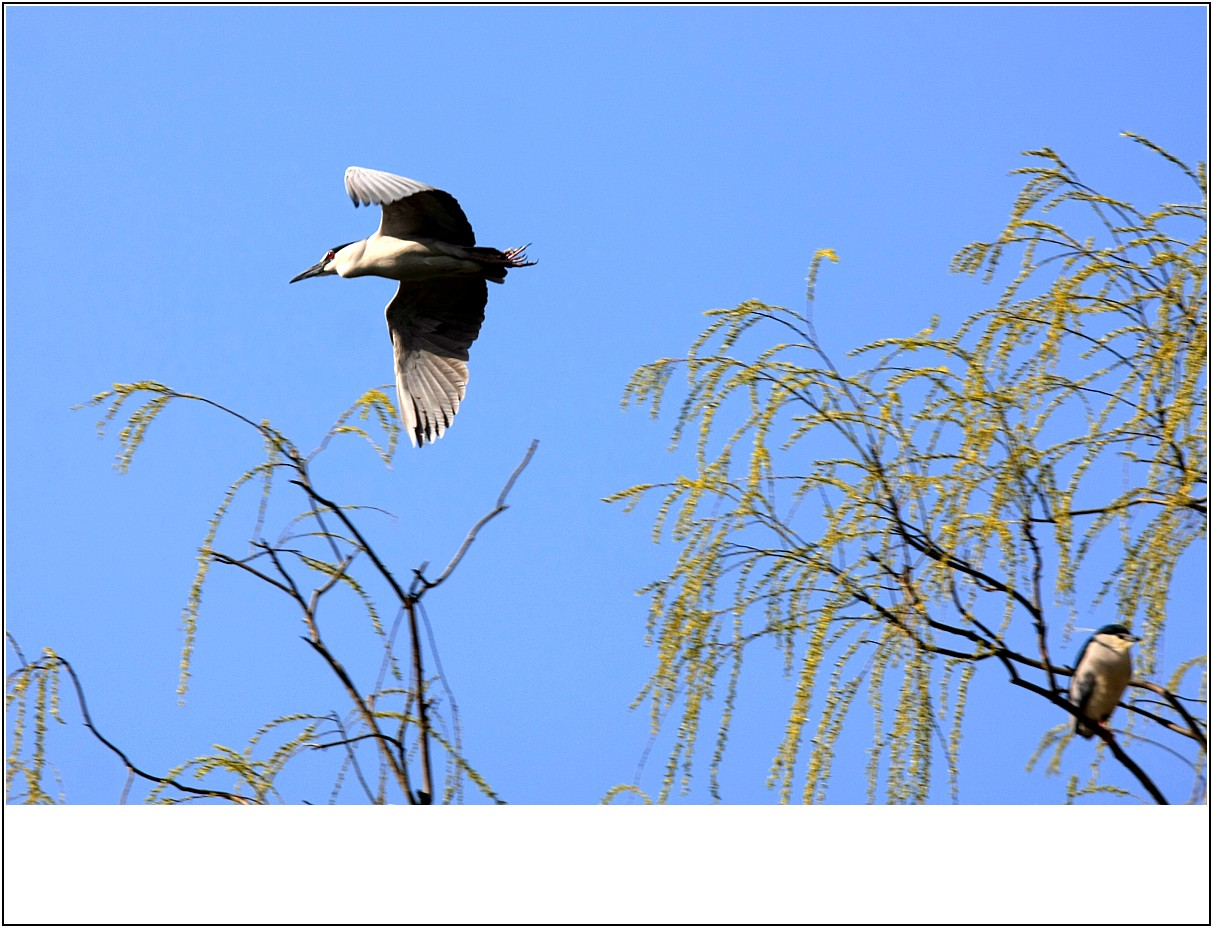bird: (273, 152, 531, 433), (1052, 621, 1150, 744)
